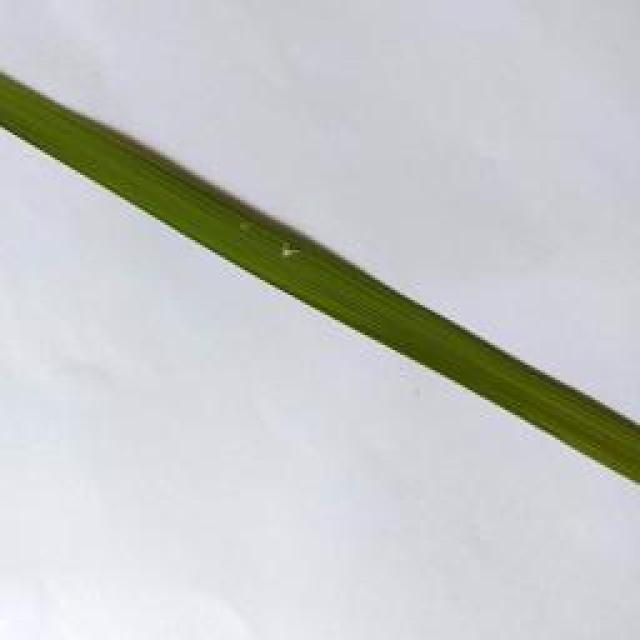Healthy-Plant: (0, 68, 640, 487)
